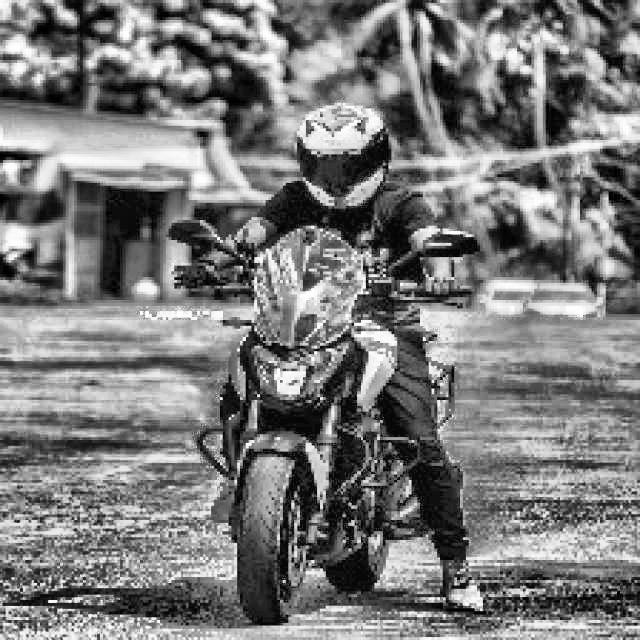motorcycle: (146, 206, 477, 621)
